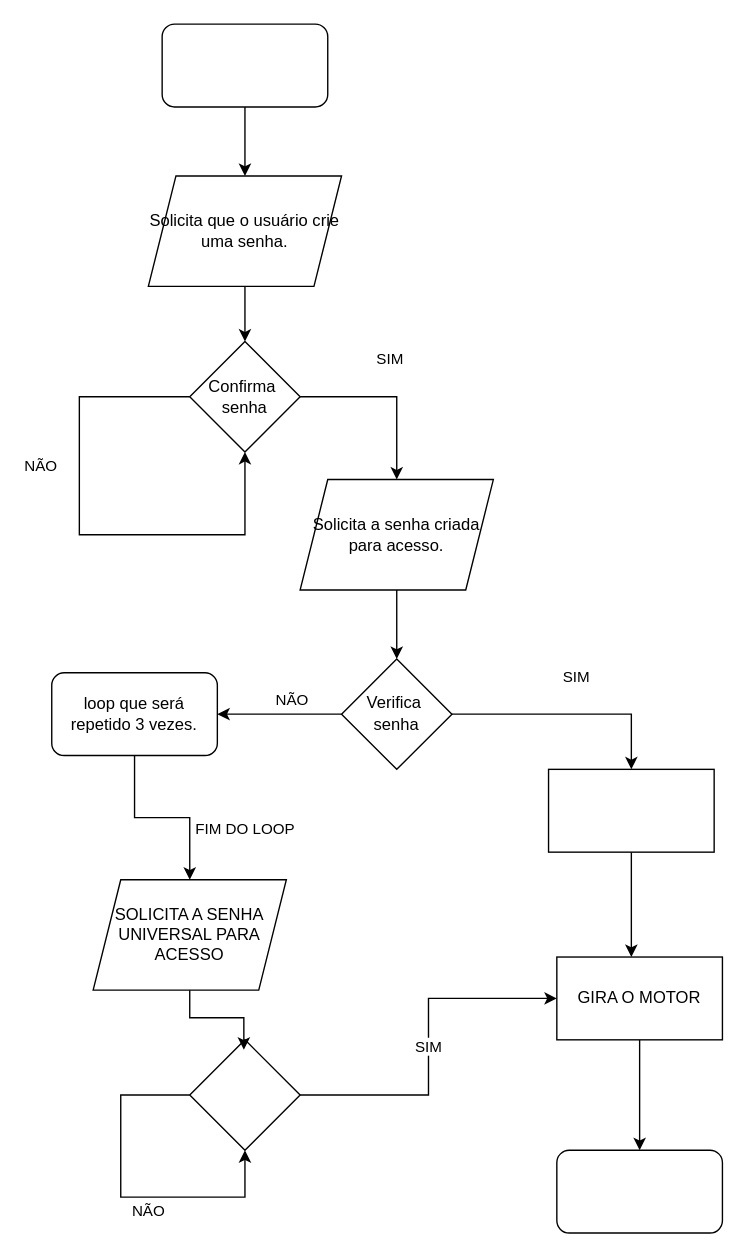
This 747x1257 diagram has some shape labels left out. Each missing label, with the centre of its shape:
EXIBIBE "ACESSO APROVADO" NO DISPLAY: (630,810)
FIM: (638,1191)
INÍCIO: (244,65)
Verifica senha universal: (244,1094)
